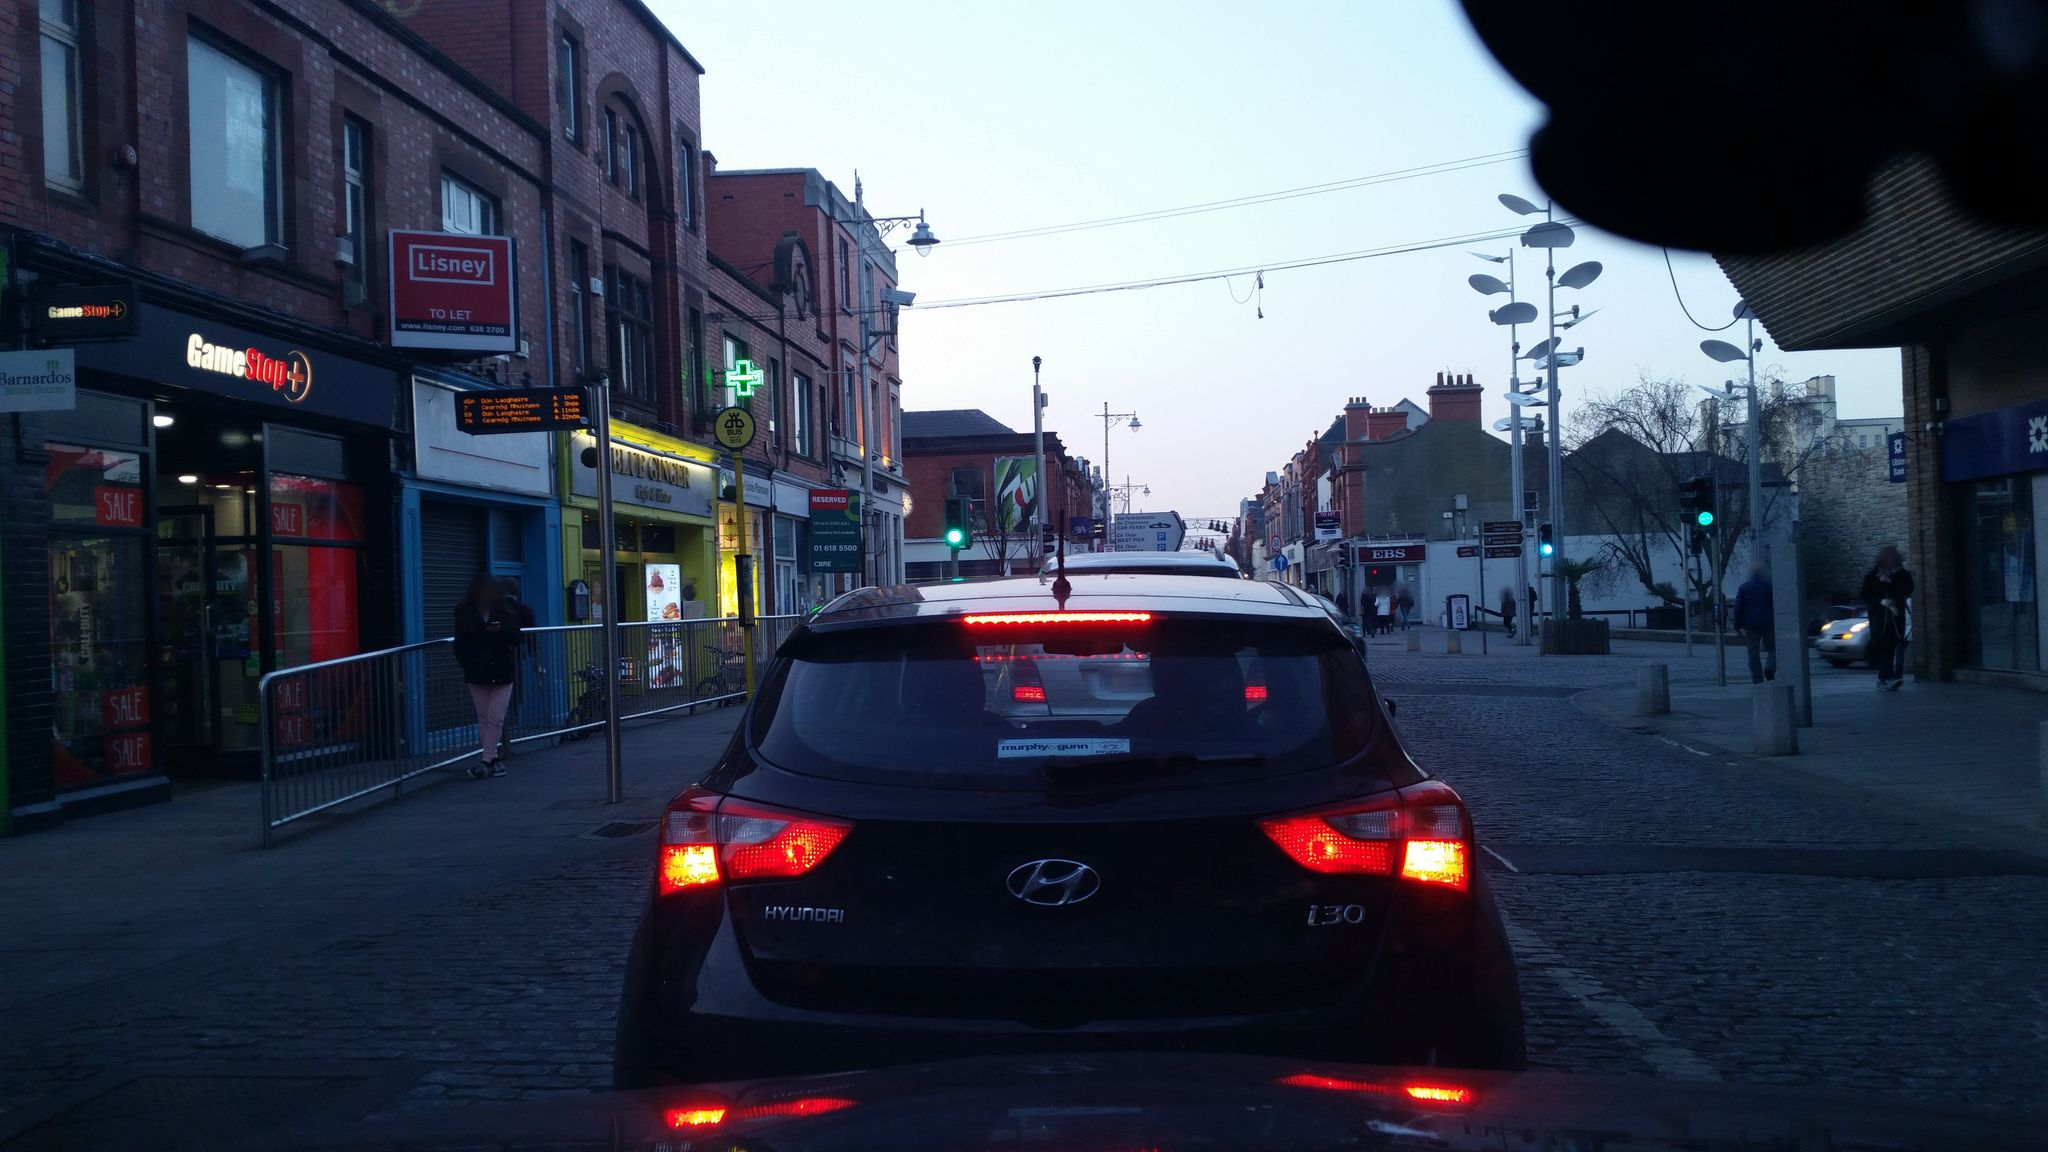property sign: (376, 205, 526, 366), (800, 478, 866, 587)
